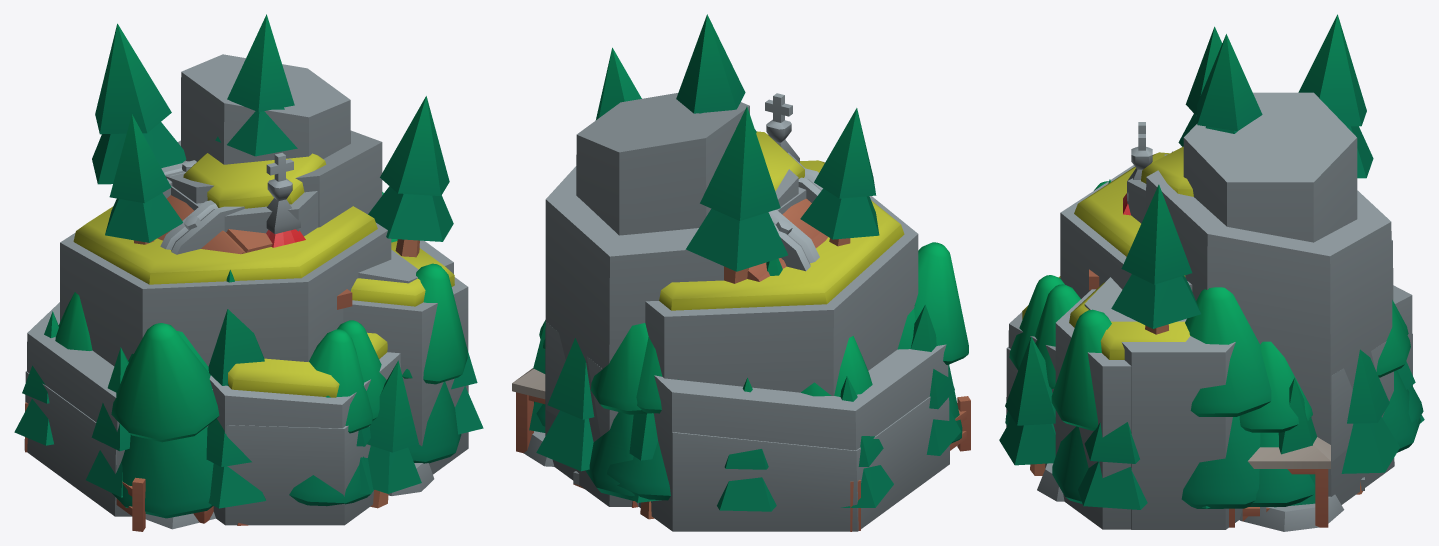
File: natura.glb
3 views of the same model, side by side, from view 1: azimuth 30°, elevation 25°; view 2: azimuth 150°, elevation 25°; view 3: azimuth 270°, elevation 25° (orthographic). The views are drawn at different scales.
Parts seen in each view (by area): view 1: mountain_A_grass_trees, mountain_B, trees_B_large, trees_A_large, building_tavern_red, hills_A_trees, building_church_red, trees_B_medium, building_market_red, trees_A_medium; view 2: mountain_A_grass_trees, mountain_B, trees_A_large, trees_B_large, trees_B_medium, building_tavern_red, building_market_red, building_church_red, hills_A_trees; view 3: mountain_B, mountain_A_grass_trees, trees_B_medium, trees_A_large, trees_B_large, building_market_red, hills_A_trees, building_church_red.
Boxes of the visible parts, x1,y1,x2,y2 form: mountain_A_grass_trees: (24, 14, 468, 525); mountain_B: (27, 54, 453, 525); trees_B_large: (55, 263, 467, 518); trees_A_large: (14, 311, 483, 508); building_tavern_red: (157, 160, 272, 254); hills_A_trees: (145, 270, 434, 529); building_church_red: (266, 152, 352, 309); trees_B_medium: (128, 192, 397, 420); building_market_red: (25, 402, 213, 531); trees_A_medium: (356, 426, 374, 494); mountain_A_grass_trees: (546, 14, 949, 531); mountain_B: (545, 93, 948, 530); trees_A_large: (529, 304, 961, 519); trees_B_large: (534, 242, 968, 500); trees_B_medium: (585, 309, 915, 500); building_tavern_red: (747, 168, 827, 281); building_market_red: (512, 368, 970, 531); building_church_red: (765, 93, 799, 162); hills_A_trees: (523, 431, 637, 507); mountain_B: (1006, 92, 1412, 529); mountain_A_grass_trees: (1008, 14, 1412, 529); trees_B_medium: (1035, 284, 1420, 508); trees_A_large: (999, 337, 1424, 509); trees_B_large: (1005, 181, 1423, 506); building_market_red: (1229, 437, 1364, 527); hills_A_trees: (1037, 179, 1344, 531); building_church_red: (1089, 122, 1152, 290).
Bounding box in the file's own units: 1.95 × 2.28 × 1.97.
Materials: 1 (1 with a texture image).
